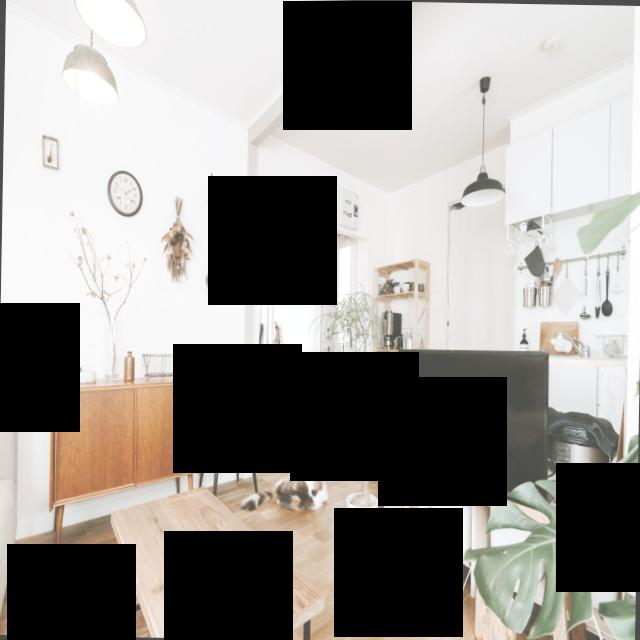vintage desk: (107, 478, 328, 640)
vintage shelf: (48, 368, 204, 512)
